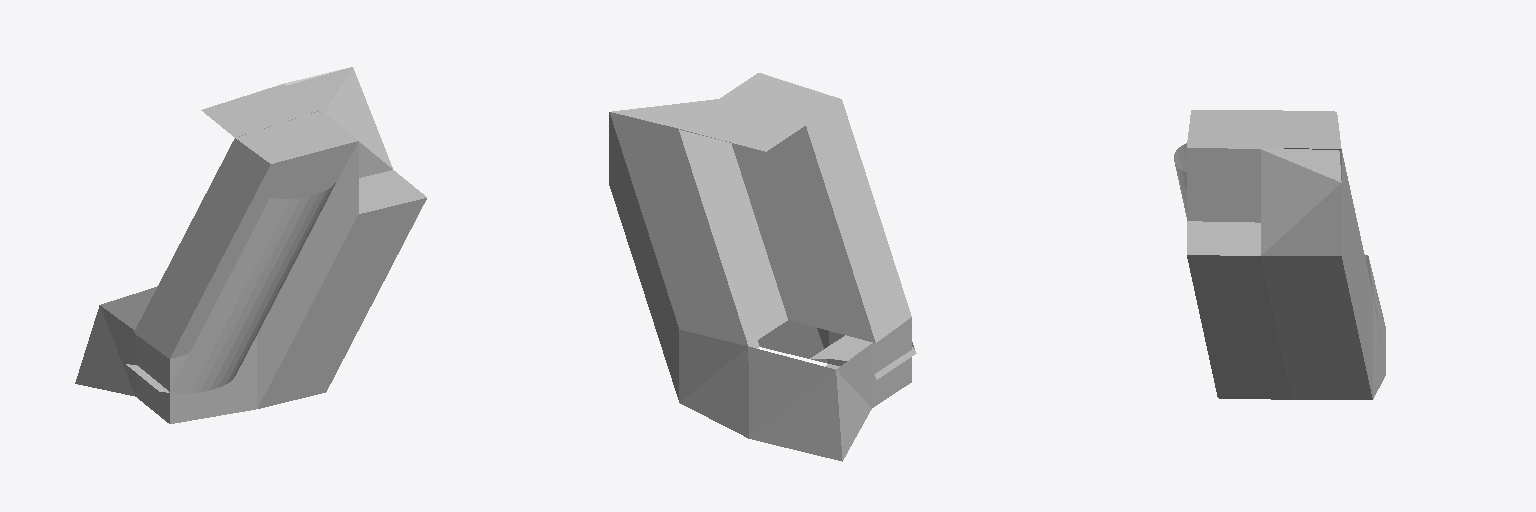
File: random.obj
3 renders of one model, left to right at view 1: azimuth 30°, elevation 25°; view 2: azimuth 150°, elevation 25°; view 3: azimuth 270°, elevation 25°, orthographic.
Parts seen in each view (by area): view 1: Cube; view 2: Cube; view 3: Cube.
Part boxes in pixels (x1,y1,x2,y2): Cube: (75,67,426,423); Cube: (609,73,916,461); Cube: (1174,110,1385,399).
Size of the model in its own units: 5.46 by 5.54 by 3.94.